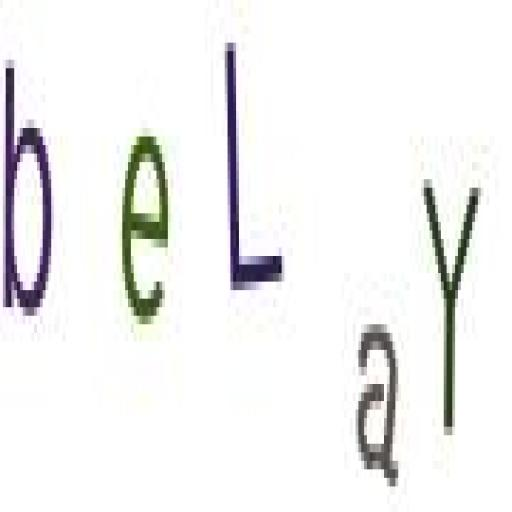L: (220, 29, 287, 315)
Y: (418, 155, 484, 443)
a: (352, 310, 404, 494)
b: (0, 54, 55, 322)
e: (116, 119, 177, 334)
